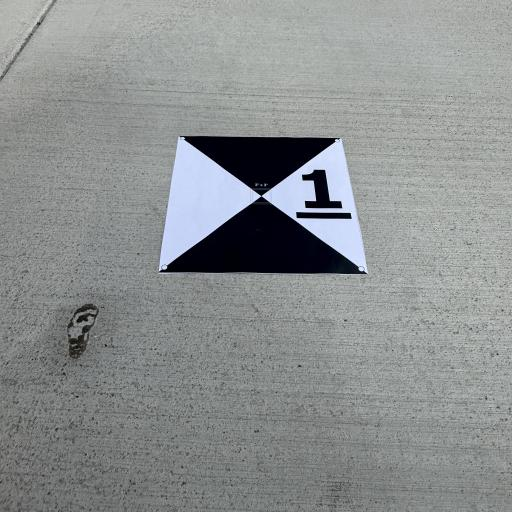target1: (156, 130, 378, 284)
